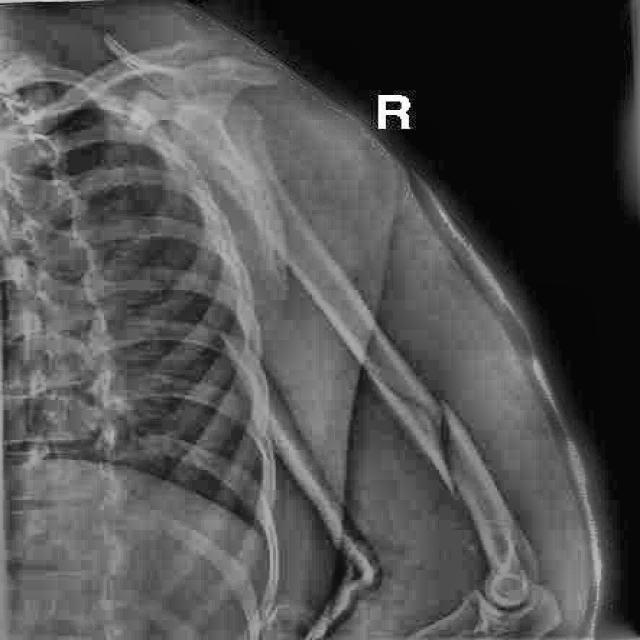humerus: (353, 334, 514, 523)
